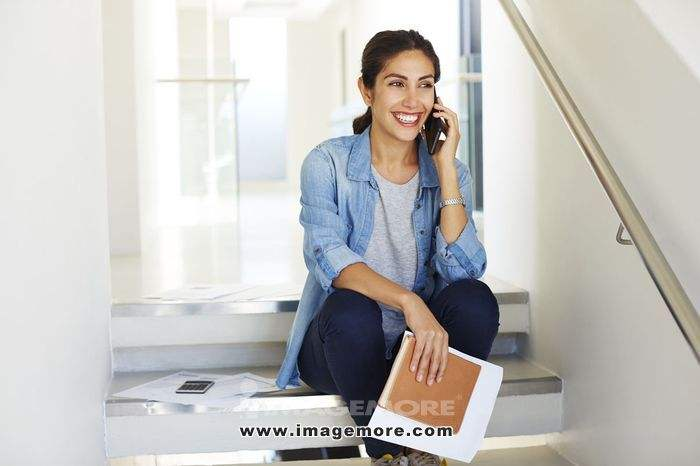phone: (426, 100, 443, 156)
talk: (377, 66, 461, 173)
